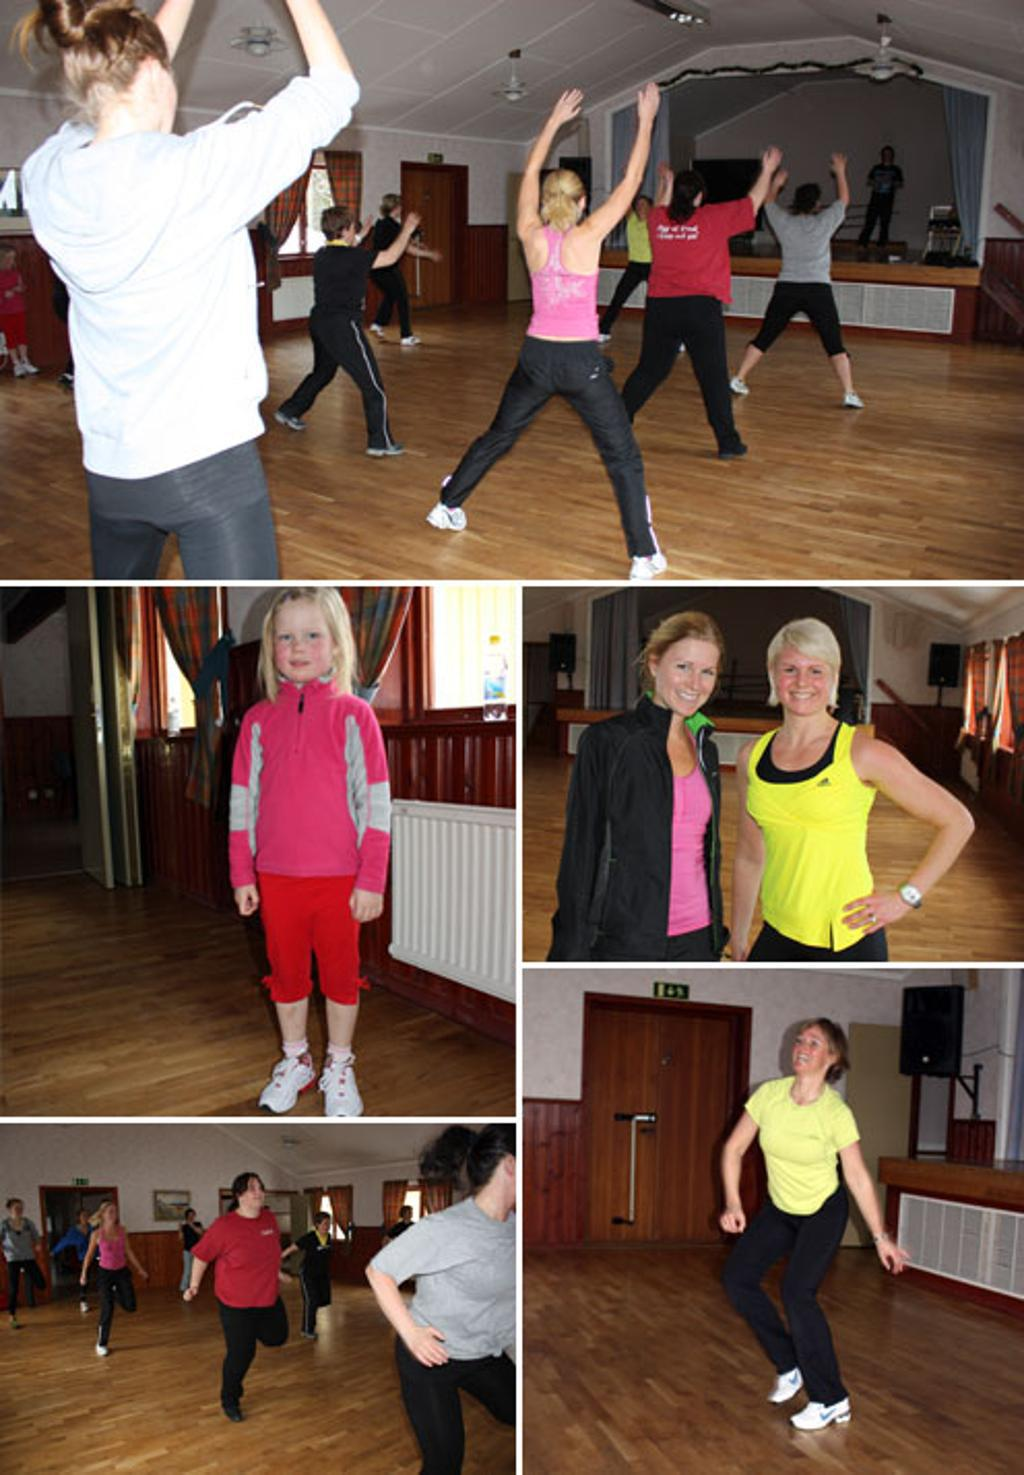face: (272, 600, 332, 681), (658, 640, 720, 715), (778, 649, 831, 716), (793, 1028, 828, 1077), (243, 1177, 265, 1210), (342, 221, 356, 248), (103, 1205, 116, 1224), (11, 1202, 23, 1219), (637, 200, 649, 216), (393, 201, 403, 216), (320, 1218, 331, 1232), (80, 1212, 88, 1223), (187, 1212, 195, 1224), (406, 1209, 414, 1220), (884, 151, 892, 162)
